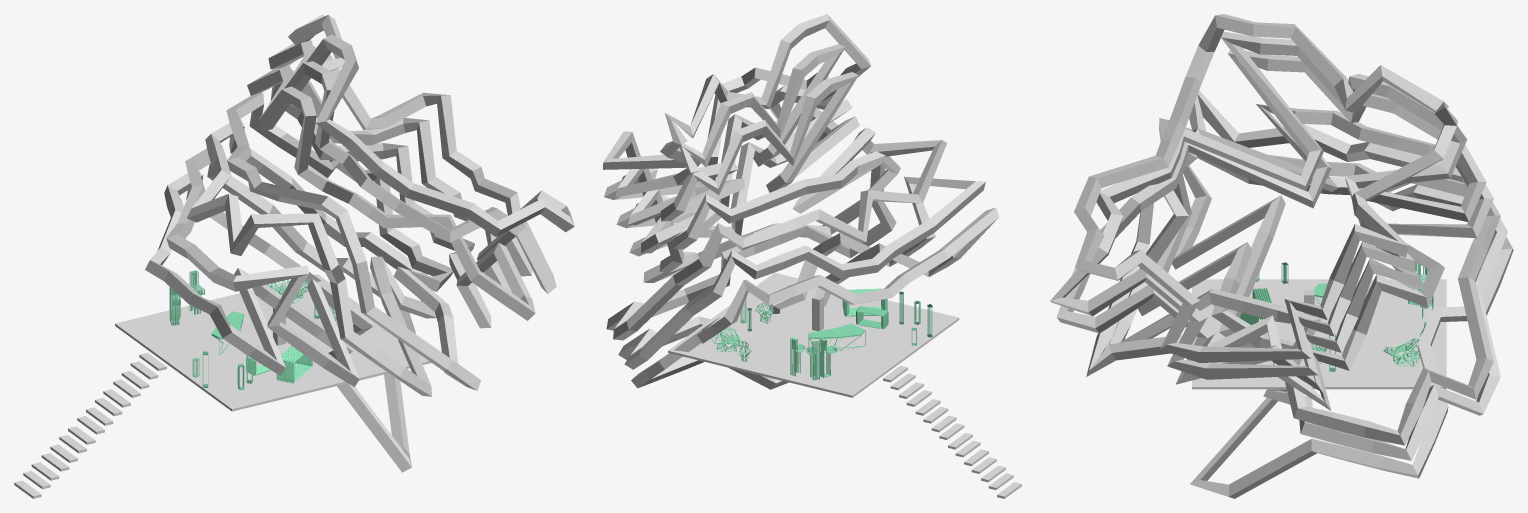
File: СценаЧастями_UV.fbx
3 renders of one model, left to right at view 1: azimuth 30°, elevation 25°; view 2: azimuth 150°, elevation 25°; view 3: azimuth 270°, elevation 25°, orthographic. The views are drawn at different scales.
Visible parts, largest first — view 1: Shell, Floor, Stairs, Table2; view 2: Shell, Floor, Stairs, Table3, Table1; view 3: Shell, Floor, Sofa.001.
Boxes of the visible parts, x1=… form: Shell: x1=145, y1=14, x2=574, y2=472; Floor: x1=115, y1=274, x2=431, y2=411; Stairs: x1=14, y1=352, x2=166, y2=498; Table2: x1=276, y1=346, x2=312, y2=383; Shell: x1=603, y1=14, x2=998, y2=389; Floor: x1=668, y1=272, x2=959, y2=397; Stairs: x1=883, y1=365, x2=1021, y2=498; Table3: x1=808, y1=323, x2=865, y2=352; Table1: x1=856, y1=306, x2=888, y2=328; Shell: x1=1050, y1=14, x2=1513, y2=498; Floor: x1=1192, y1=279, x2=1446, y2=389; Sofa.001: x1=1382, y1=338, x2=1420, y2=366.
Bounding box in the file's own units: 2169 × 1847 × 1704.
